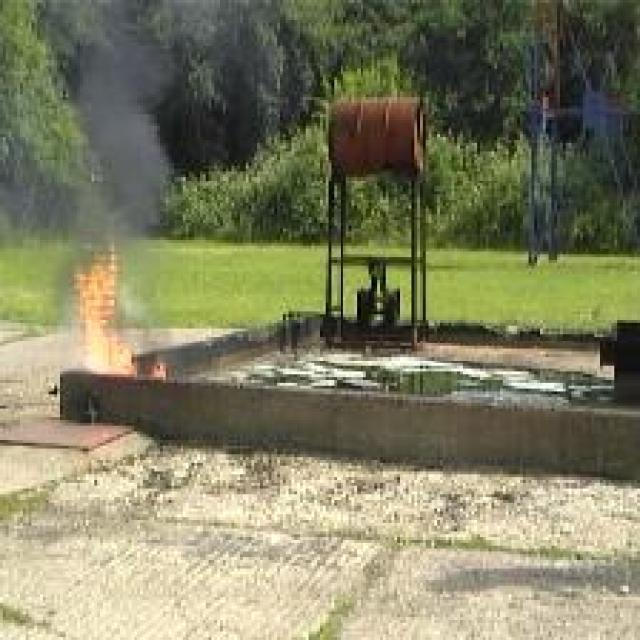Fire: (77, 244, 172, 379)
